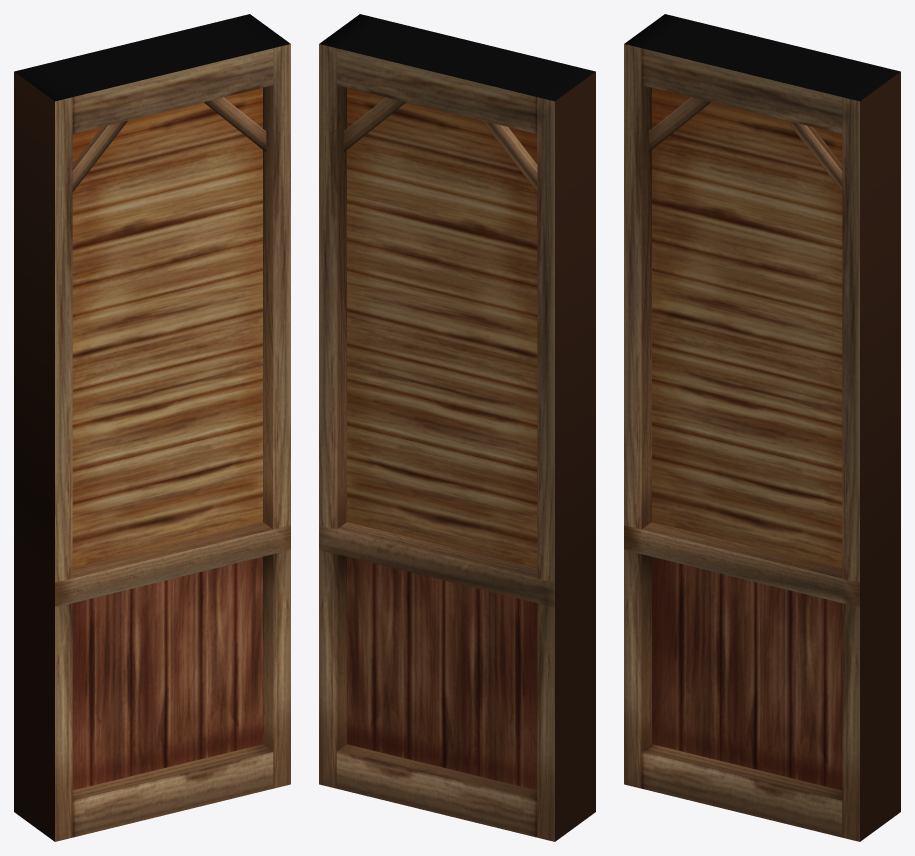
The model's file is a_SWGiwall02B.glb.
3 views of the same model, side by side, from view 1: azimuth 30°, elevation 25°; view 2: azimuth 150°, elevation 25°; view 3: azimuth 330°, elevation 25° (orthographic).
Parts seen in each view (by area): view 1: a_SWGiwall02B; view 2: a_SWGiwall02B; view 3: a_SWGiwall02B.
Boxes of the visible parts, bbox=[...] form: a_SWGiwall02B: bbox=[14, 14, 290, 841]; a_SWGiwall02B: bbox=[319, 14, 595, 841]; a_SWGiwall02B: bbox=[624, 14, 900, 841].
Size of the model in its own units: 1 by 3 by 0.3004.
Materials: 2 (2 with a texture image).
